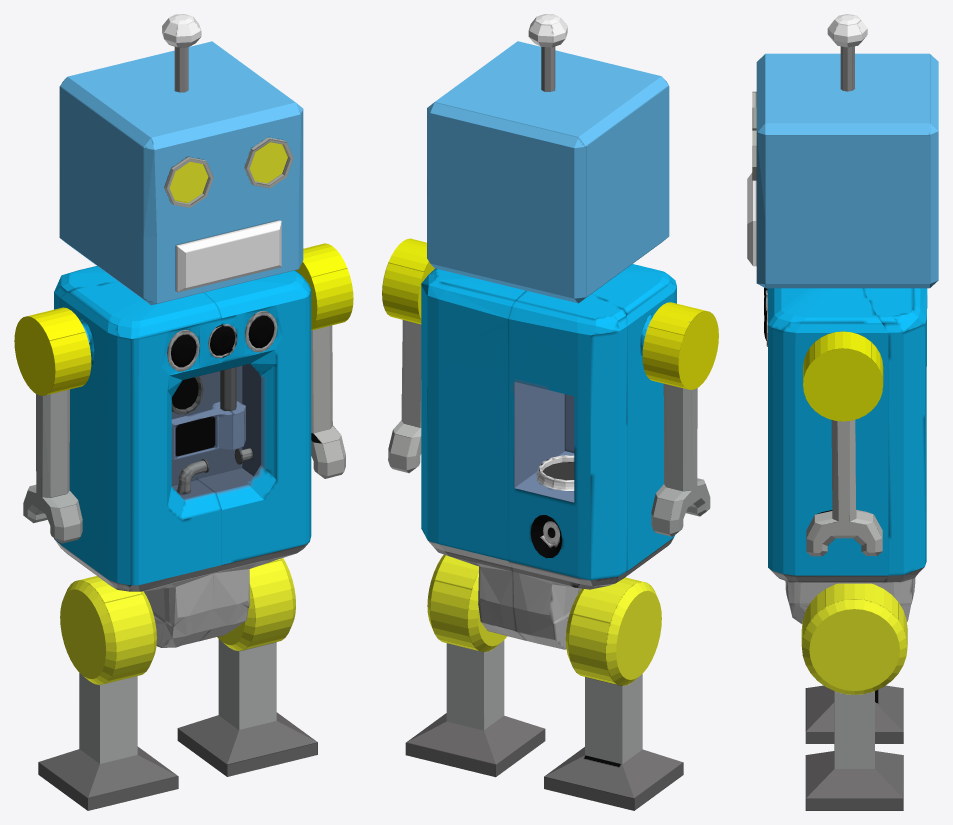
The model's file is algolab-robot-demo.glb.
3 renders of one model, left to right at view 1: azimuth 30°, elevation 25°; view 2: azimuth 150°, elevation 25°; view 3: azimuth 270°, elevation 25°, orthographic.
Visible parts, largest first — view 1: torso.001, cabeza.001, pierna.R.001, pierna.L.001, Brazo.R.001, Brazo.L.001; view 2: torso.001, cabeza.001, pierna.R.001, pierna.L.001, Brazo.R.001, Brazo.L.001; view 3: cabeza.001, torso.001, pierna.L.001, Brazo.L.001, pierna.R.001.
Part boxes in pixels (left/top/right/bottom): torso.001: left=54, top=266, right=311, bottom=647; cabeza.001: left=59, top=14, right=303, bottom=305; pierna.R.001: left=38, top=576, right=178, bottom=810; pierna.L.001: left=177, top=558, right=317, bottom=776; Brazo.R.001: left=14, top=307, right=91, bottom=543; Brazo.L.001: left=296, top=243, right=353, bottom=478; torso.001: left=421, top=264, right=676, bottom=649; cabeza.001: left=427, top=14, right=669, bottom=303; pierna.R.001: left=544, top=577, right=683, bottom=810; pierna.L.001: left=405, top=554, right=545, bottom=777; Brazo.R.001: left=642, top=302, right=718, bottom=536; Brazo.L.001: left=382, top=238, right=434, bottom=473; cabeza.001: left=747, top=14, right=938, bottom=288; torso.001: left=764, top=287, right=927, bottom=623; pierna.L.001: left=801, top=583, right=907, bottom=810; Brazo.L.001: left=803, top=331, right=883, bottom=556; pierna.R.001: left=805, top=685, right=903, bottom=743.
Bounding box in the file's own units: 2 × 4.79 × 1.13.
6 materials, 6 textured.
